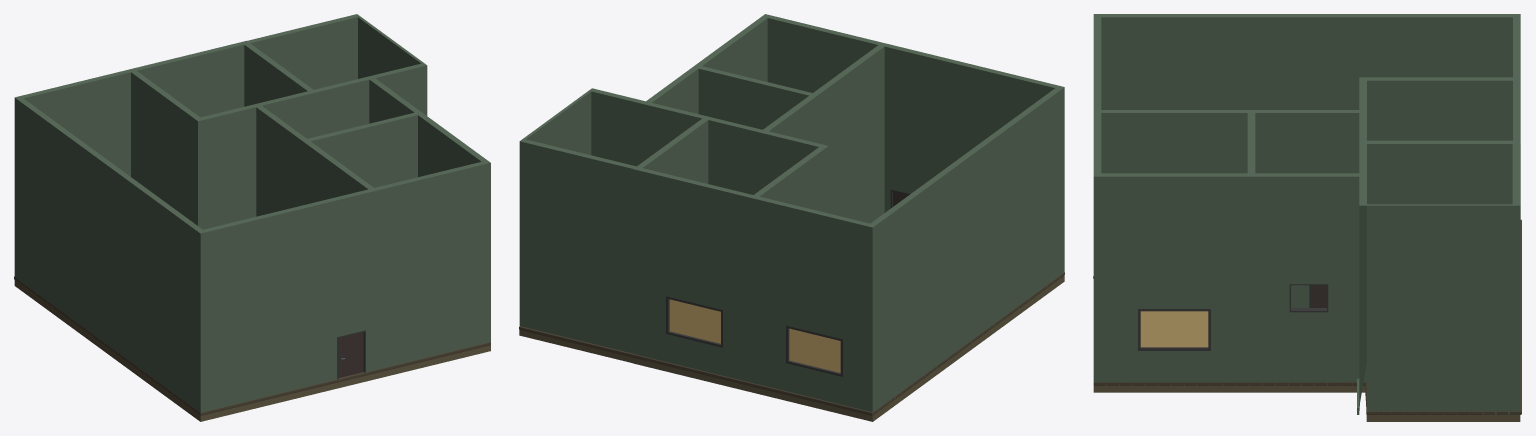
File: Casa_Saras_Fragments_3.fbx
3 renders of one model, left to right at view 1: azimuth 30°, elevation 25°; view 2: azimuth 150°, elevation 25°; view 3: azimuth 270°, elevation 25°, orthographic. The views are drawn at different scales.
Visible parts, largest first — view 1: Casa, Suelo, BaldosaMadera, Puerta; view 2: Casa, Suelo, BaldosaMadera, MarcoVent, MarcoVent.001; view 3: Casa, Suelo, MarcoVent.002, BaldosaMadera.
Part boxes in pixels (x1,y1,x2,y2): Casa: (14, 14, 490, 415); Suelo: (14, 280, 490, 421); BaldosaMadera: (14, 276, 490, 415); Puerta: (338, 332, 363, 377); Casa: (519, 14, 1064, 412); Suelo: (519, 275, 1064, 421); BaldosaMadera: (519, 272, 1064, 415); MarcoVent: (786, 325, 842, 376); MarcoVent.001: (666, 296, 722, 347); Casa: (1093, 14, 1520, 414); Suelo: (1093, 385, 1520, 421); MarcoVent.002: (1138, 309, 1210, 350); BaldosaMadera: (1093, 219, 1521, 414).
Bounding box in the file's own units: 16.57 × 8.7 × 15.63.
